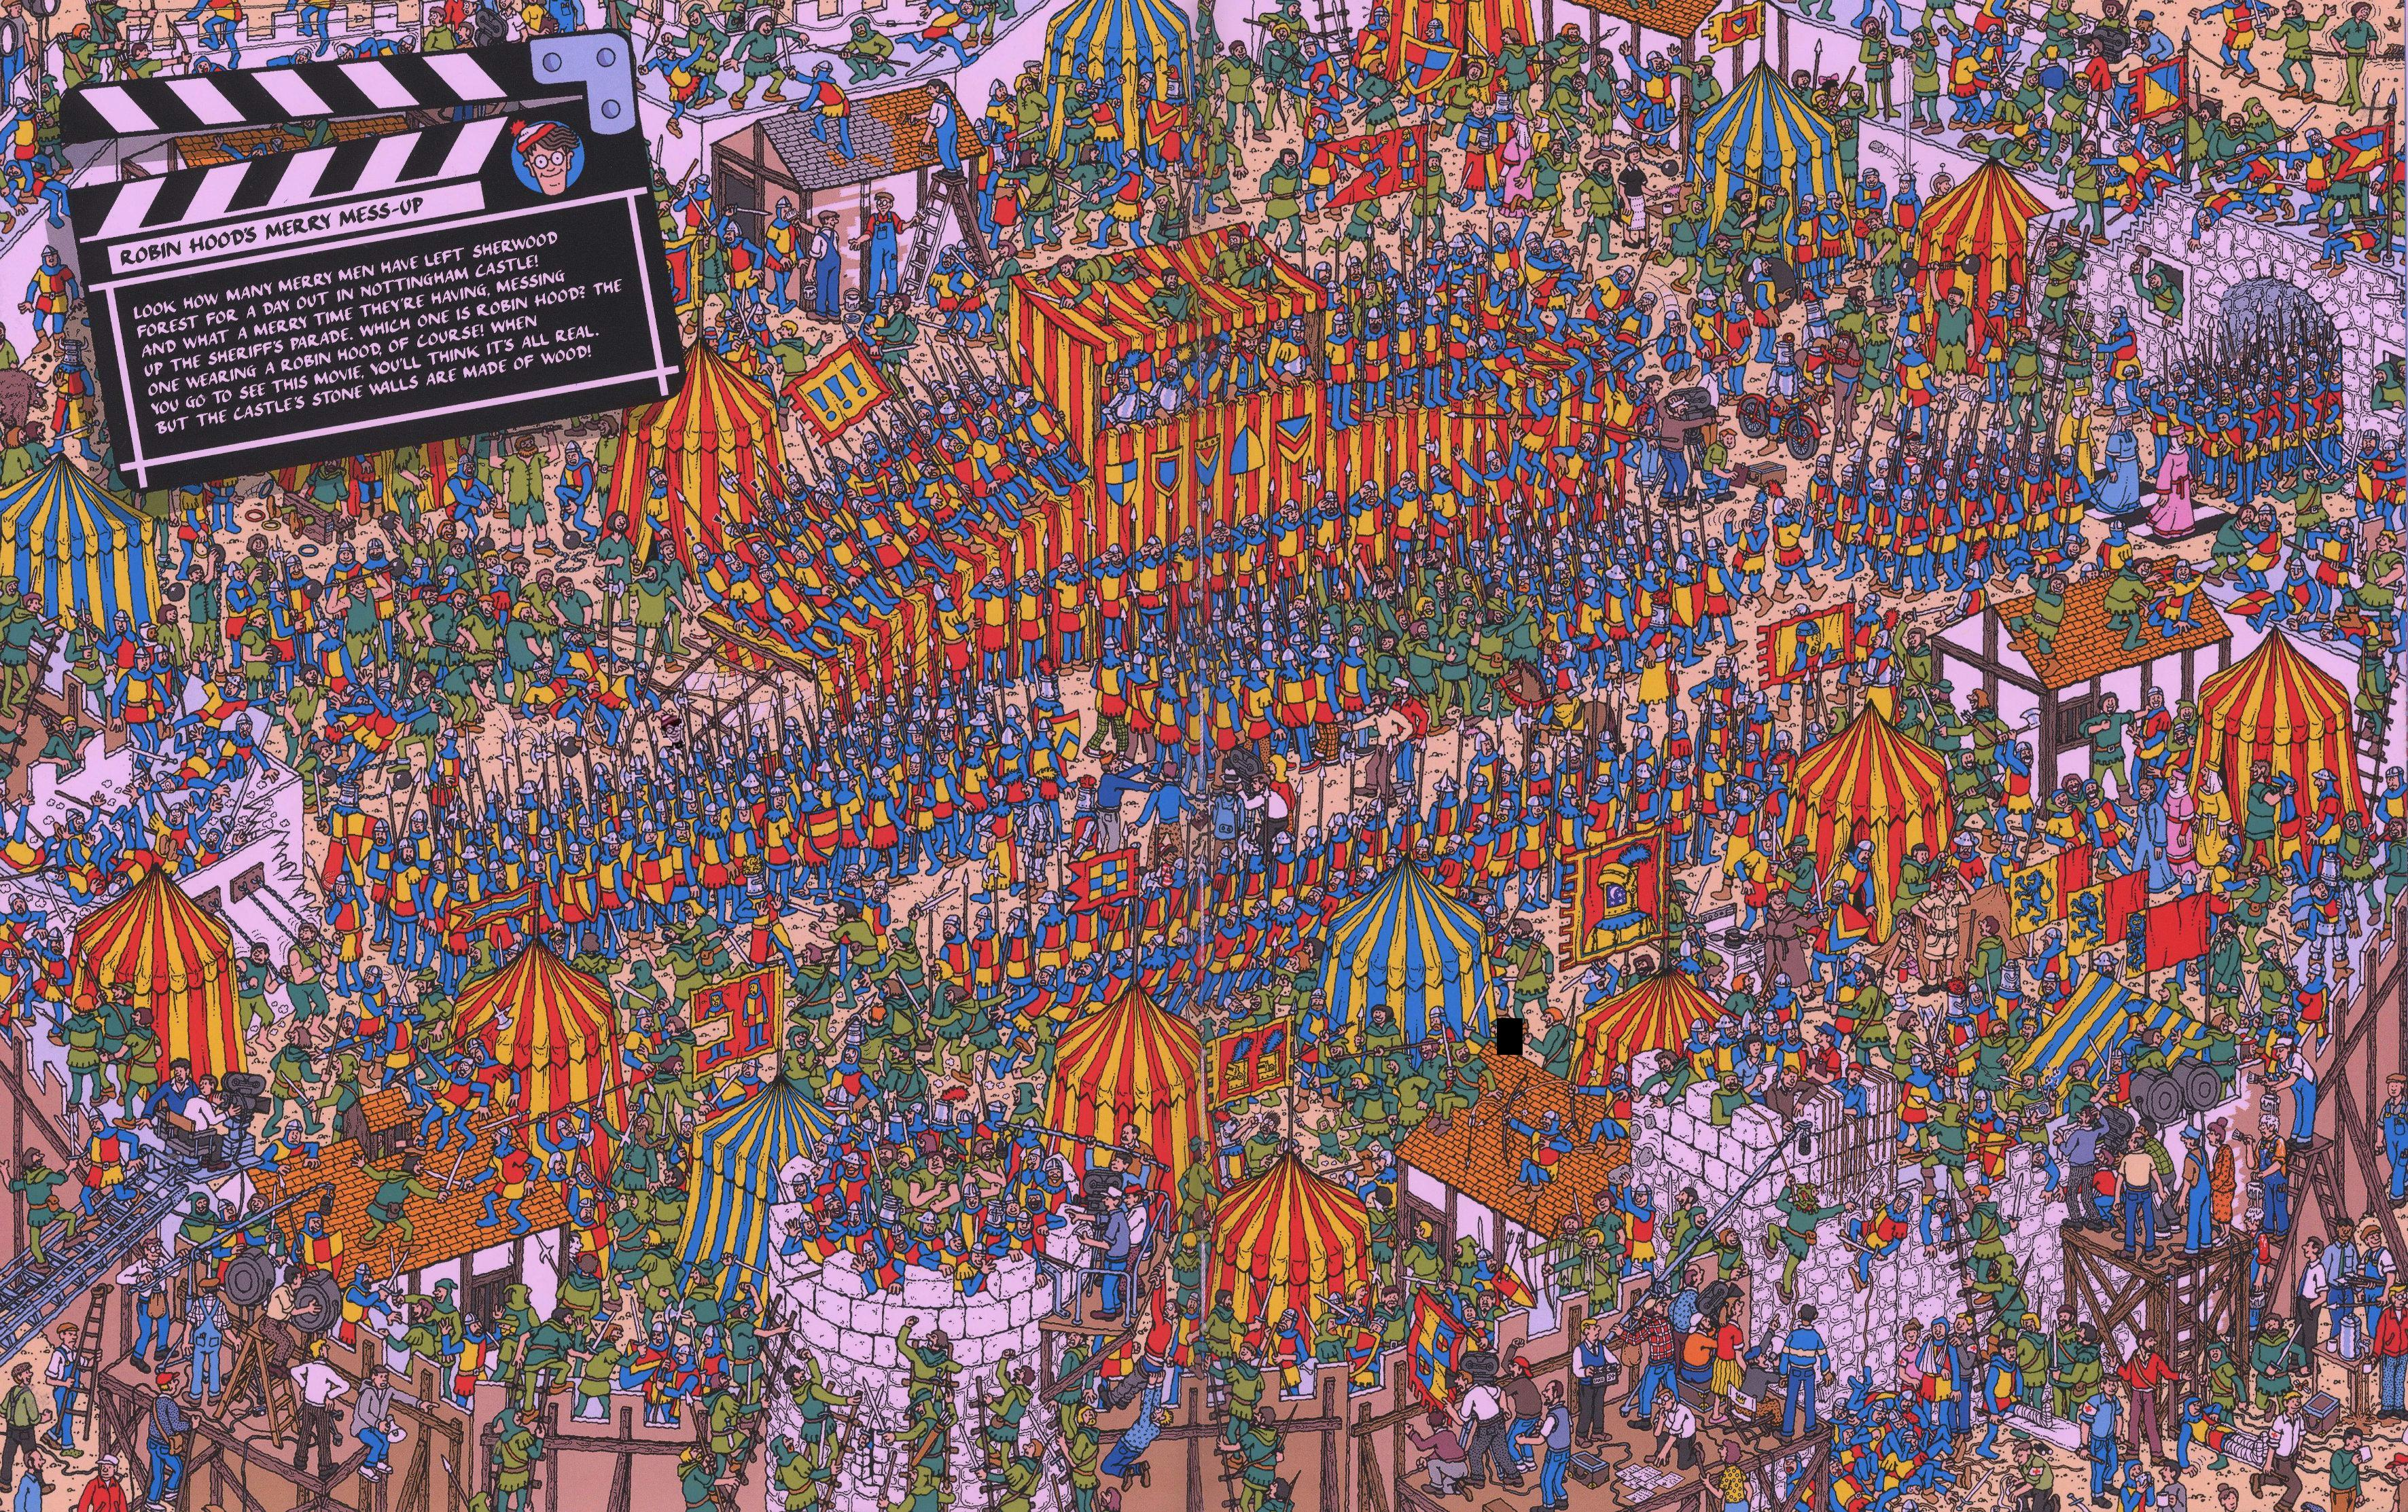waldos: (659, 712, 685, 749)
